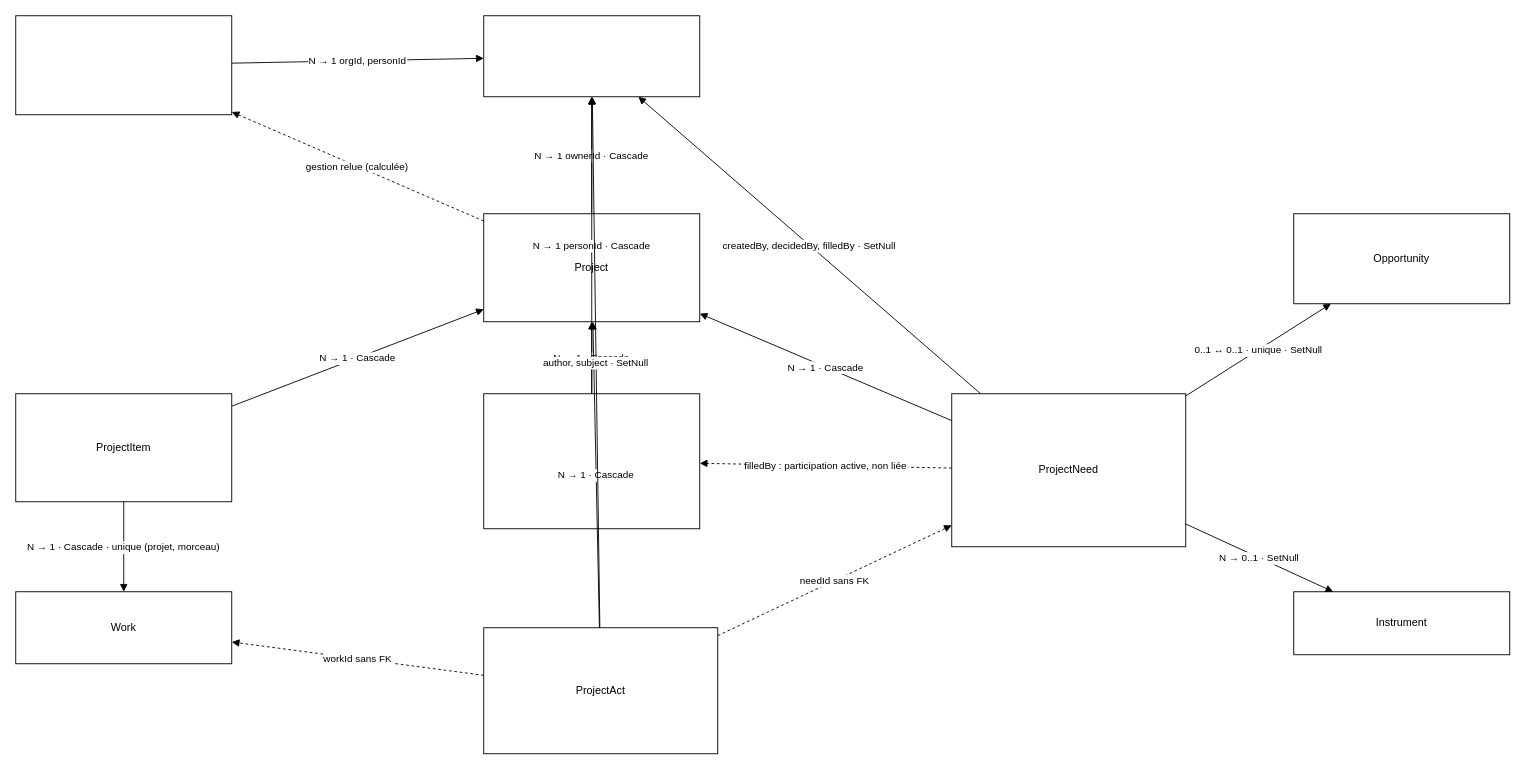
The diagram is 1526 pixels wide and 770 high, and some of its shapes have lost their labels. Here are the shapes that lost their labels. From the top down, the centre of each, then its label:
point (123, 65): Membership
point (591, 56): Actor
point (591, 461): ProjectParticipant
